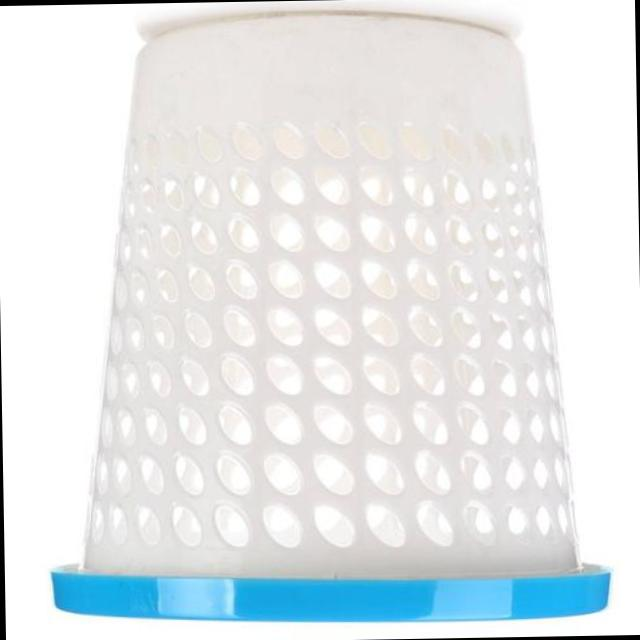dustbin: (37, 2, 616, 636)
